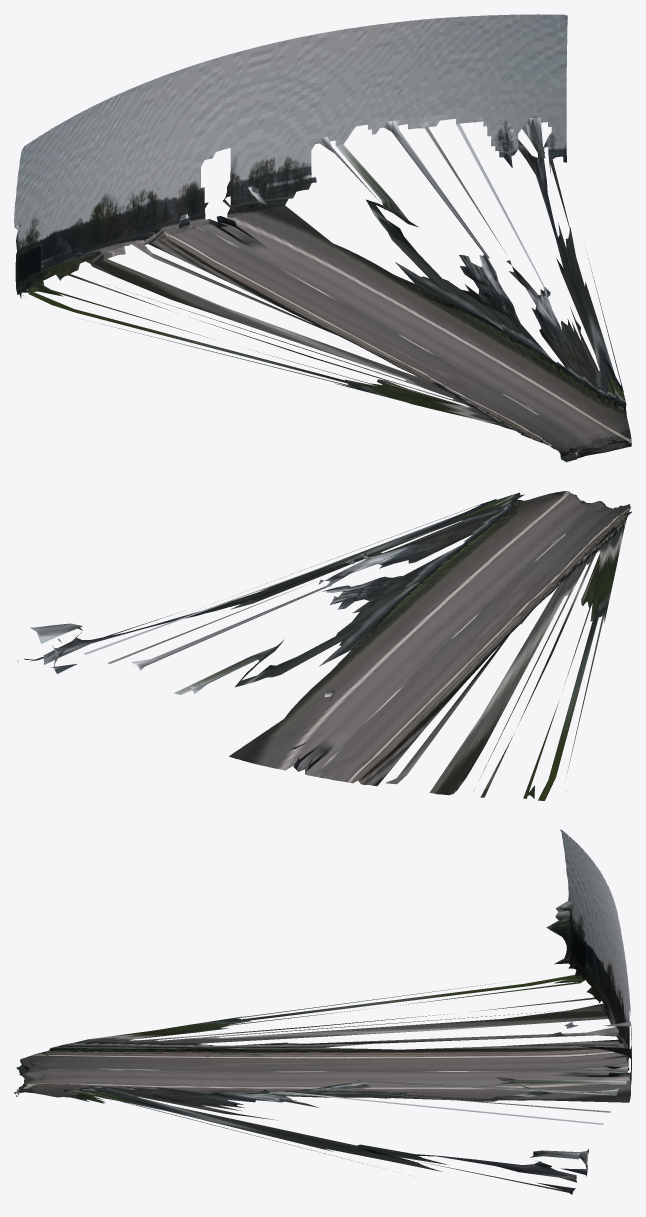
3 views of the same model, one above another, from view 1: azimuth 30°, elevation 25°; view 2: azimuth 150°, elevation 25°; view 3: azimuth 270°, elevation 25° (orthographic). The views are drawn at different scales.
Parts seen in each view (by area): view 1: defaultobject; view 2: defaultobject; view 3: defaultobject.
Boxes of the visible parts, bbox=[...] form: defaultobject: bbox=[14, 14, 631, 462]; defaultobject: bbox=[17, 491, 631, 800]; defaultobject: bbox=[14, 829, 631, 1194].
Bounding box in the file's own units: 41.12 × 12.27 × 44.48.
1 material, 1 textured.
